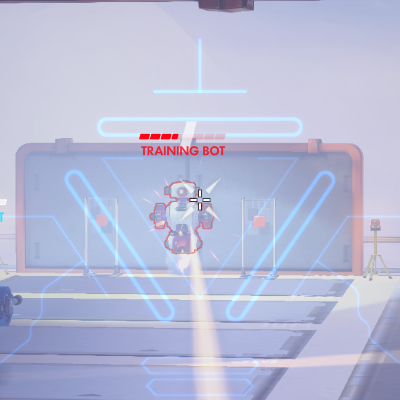hpbar: (139, 133, 226, 140)
